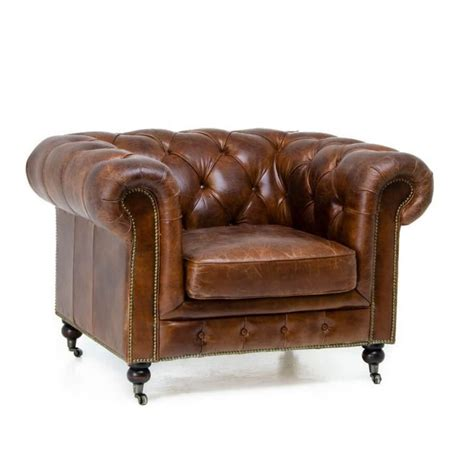cuero: (24, 127, 435, 365)
